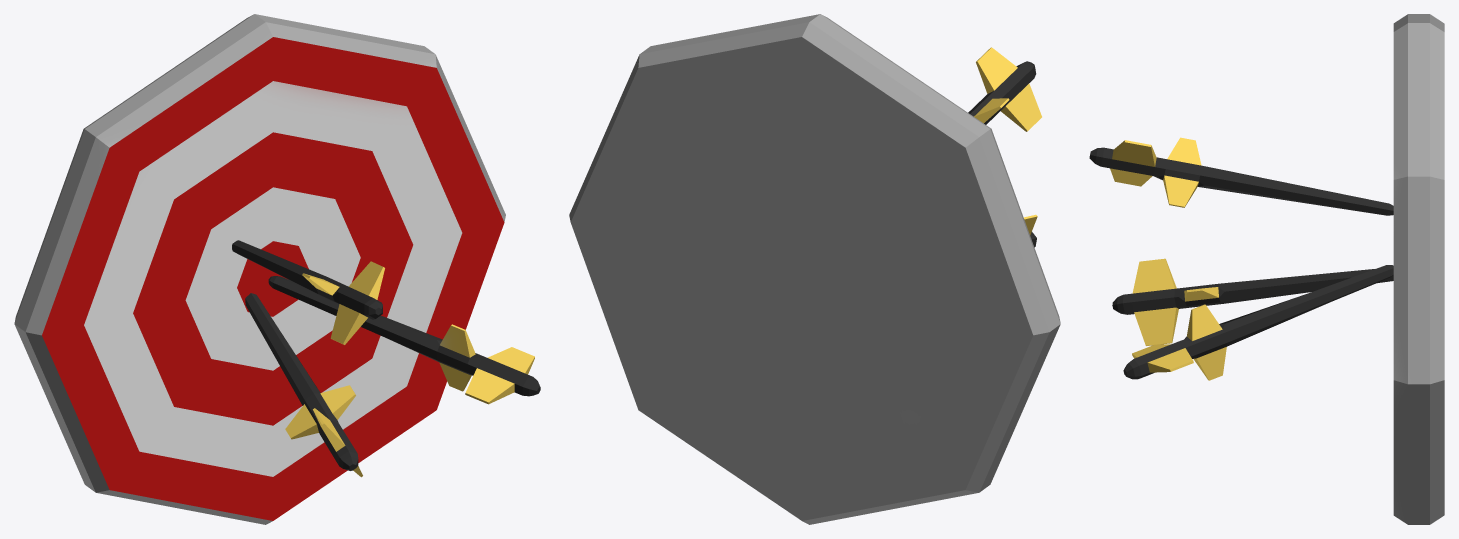
File: tiroaoalvo.fbx
3 views of the same model, side by side, from view 1: azimuth 30°, elevation 25°; view 2: azimuth 150°, elevation 25°; view 3: azimuth 270°, elevation 25° (orthographic). The views are drawn at different scales.
Visible parts, largest first — view 1: Circle; view 2: Circle; view 3: Circle.
Boxes of the visible parts, x1=… form: Circle: x1=14, y1=14, x2=540, y2=524; Circle: x1=569, y1=14, x2=1060, y2=524; Circle: x1=1089, y1=14, x2=1444, y2=524.
Size of the model in its own units: 208 by 208 by 136.
1 material, 1 textured.
